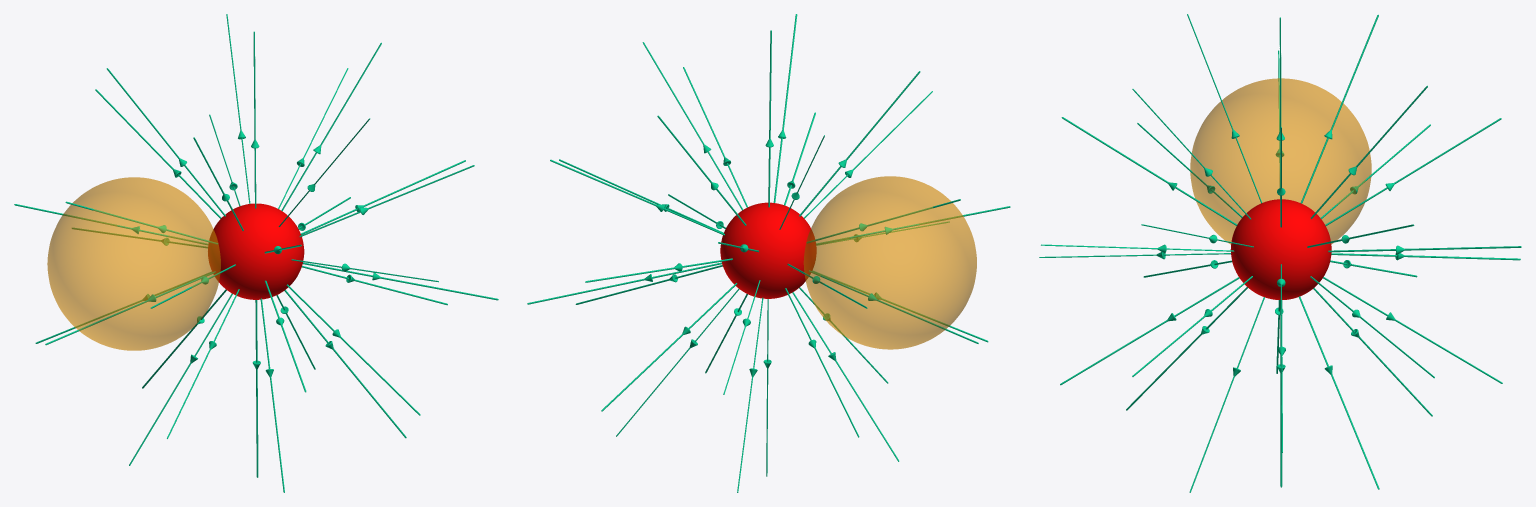
The model's file is SolidBallChargeGaussSphereOutside.glb.
3 renders of one model, left to right at view 1: azimuth 30°, elevation 25°; view 2: azimuth 150°, elevation 25°; view 3: azimuth 270°, elevation 25°, orthographic. The views are drawn at different scales.
Visible parts, largest first — view 1: Sphere, Sphere 2; view 2: Sphere, Sphere 2; view 3: Sphere, Sphere 2.
Part boxes in pixels (<box>): Sphere: <box>47,177,220,350</box>; Sphere 2: <box>208,203,304,299</box>; Sphere: <box>803,176,976,349</box>; Sphere 2: <box>720,202,816,298</box>; Sphere: <box>1190,78,1371,244</box>; Sphere 2: <box>1230,199,1331,299</box>.
Bounding box in the file's own units: 0.1259 × 0.128 × 0.1196.
